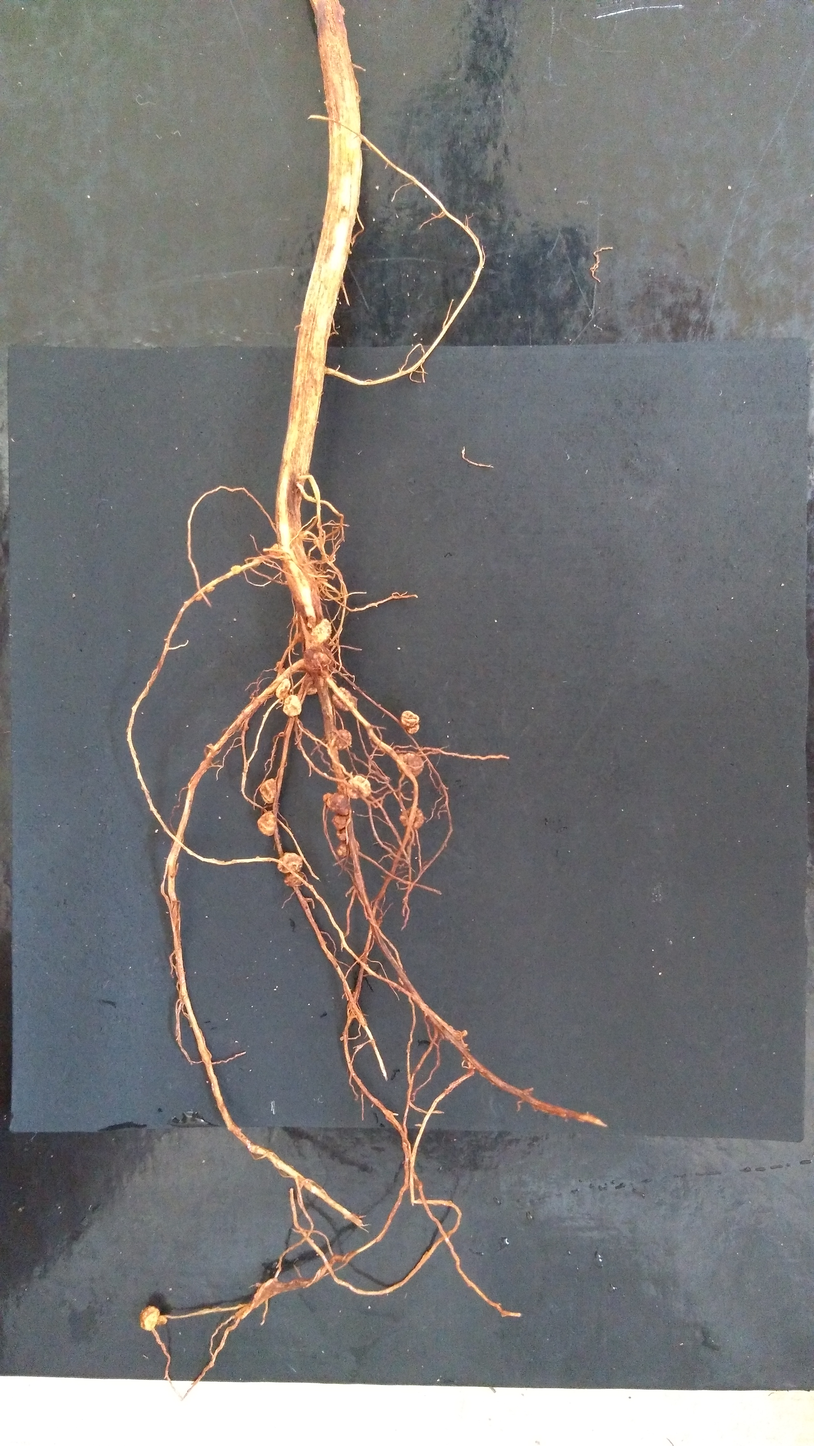nodule: (302, 644, 335, 674), (331, 686, 358, 712), (140, 1306, 168, 1331), (396, 752, 425, 776), (322, 792, 351, 815), (346, 774, 372, 799), (276, 851, 304, 874), (310, 618, 332, 646), (399, 805, 424, 829), (275, 666, 292, 699), (257, 810, 277, 836), (400, 709, 420, 734), (282, 694, 302, 718), (259, 777, 277, 803), (332, 815, 350, 841), (333, 729, 352, 752), (336, 840, 360, 858), (302, 670, 317, 694), (284, 871, 306, 887), (268, 543, 282, 557), (274, 661, 284, 671), (231, 564, 241, 573), (194, 593, 203, 601), (206, 586, 216, 593)
